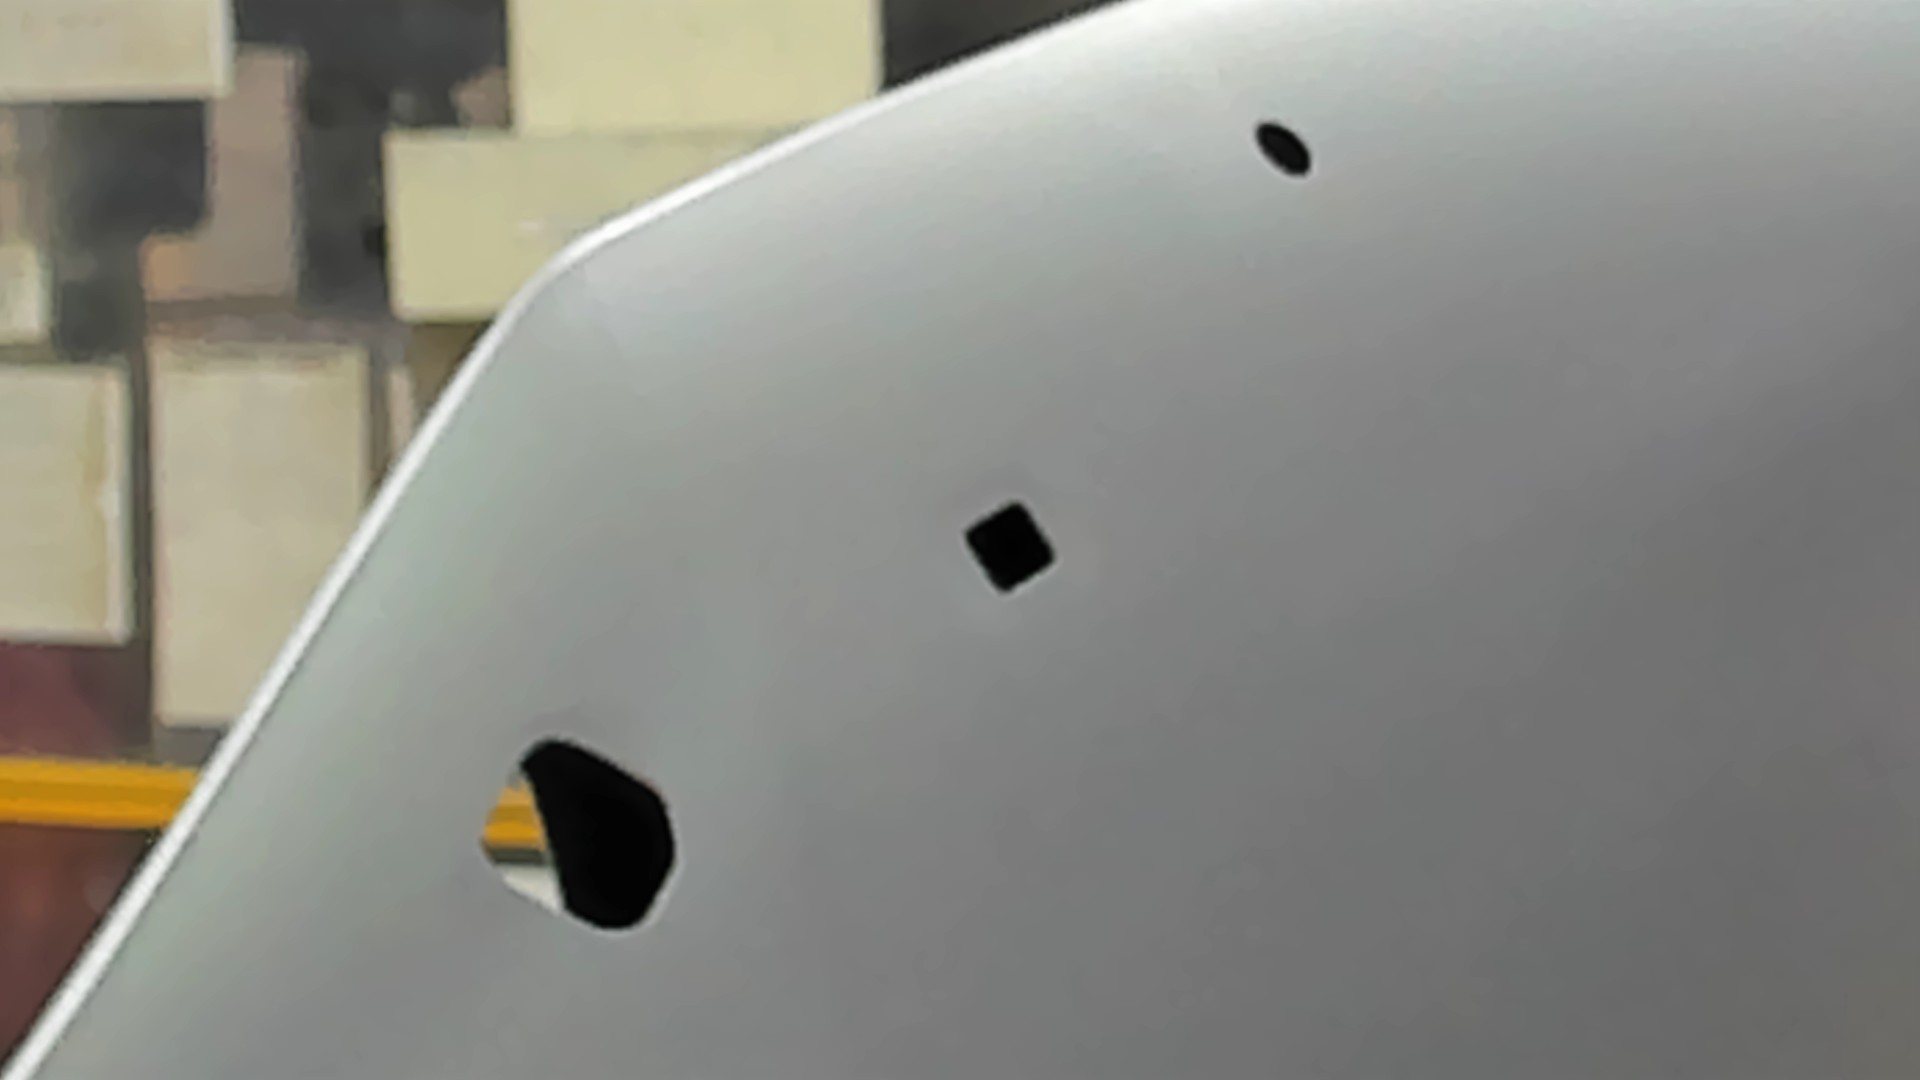chico: (1250, 113, 1321, 191)
grande: (465, 727, 687, 944)
mediano: (956, 495, 1064, 603)
